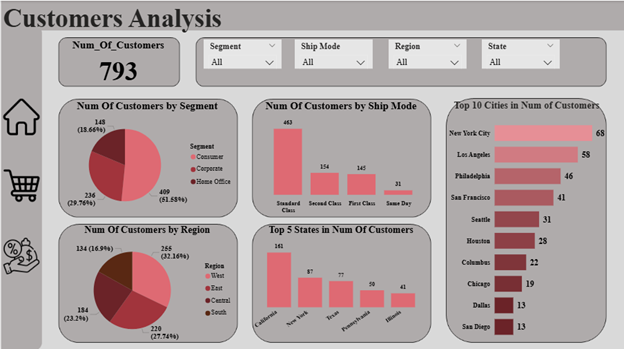

Layout of this report page (visuals, bound fields, positions):
{"tool":"powerbi","page":{"name":"Customers","canvas":[1280,720],"ordinal":1},"visuals":[{"type":"card","title":"Num_Of_Customers","fields":{"Values":["dimCustomers.Num_Of_Customers"]},"box":[116.2,79.4,250.9,99.2],"z":0},{"type":"clusteredColumnChart","title":"Num Of Customers by Ship Mode","fields":{"Category":["dimCustomers.Ship Mode"],"Y":["dimCustomers.Num_Of_Customers"]},"box":[514.5,204.1,368.5,240.9],"z":1000},{"type":"pieChart","title":"Num Of Customers by Segment","fields":{"Y":["dimCustomers.Num_Of_Customers"],"Category":["dimCustomers.Segment"]},"box":[116.2,204.1,369.9,242.4],"z":2000},{"type":"clusteredBarChart","title":"Top 10 Cities in Num of Customers","fields":{"Category":["dimCustomers.City"],"Y":["dimCustomers.Num_Of_Customers"]},"box":[914.2,202.7,331.7,506],"z":3000},{"type":"pieChart","title":"Num Of Customers by Region","fields":{"Category":["dimCustomers.Region"],"Y":["dimCustomers.Num_Of_Customers"]},"box":[116.2,457.8,369.9,250.9],"z":4000},{"type":"clusteredColumnChart","title":"Top 5 States in Num Of Customers","fields":{"Category":["dimCustomers.State"],"Y":["dimCustomers.Num_Of_Customers"]},"box":[514.5,457.8,368.5,240.9],"z":5000},{"type":"textbox","box":[0,0,486.1,79.4],"z":6000},{"type":"image","box":[0,189.9,85,97.8],"z":6001},{"type":"image","box":[0,337.3,85,83.6],"z":6002},{"type":"image","box":[0,469.1,85,109.1],"z":6003},{"type":"slicer","fields":{"Values":["dimCustomers.Segment"]},"box":[416.7,79.4,160.2,59.5],"z":6004},{"type":"slicer","fields":{"Values":["dimCustomers.Region"]},"box":[796.5,79.4,160.2,59.5],"z":6005},{"type":"slicer","fields":{"Values":["dimCustomers.Ship Mode"]},"box":[603.8,79.4,160.2,59.5],"z":6006},{"type":"slicer","fields":{"Values":["dimCustomers.State"]},"box":[987.9,79.4,160.2,59.5],"z":6007}]}

Visuals, with their boxes in screenshot pixels (x1, y1, x2, y2), scaled from the page's 1280x720 canvas onto the 624x349 screenshot:
"Num_Of_Customers" card: [57, 38, 179, 87]
"Num Of Customers by Ship Mode" clusteredColumnChart: [251, 99, 430, 216]
"Num Of Customers by Segment" pieChart: [57, 99, 237, 216]
"Top 10 Cities in Num of Customers" clusteredBarChart: [446, 98, 607, 344]
"Num Of Customers by Region" pieChart: [57, 222, 237, 344]
"Top 5 States in Num Of Customers" clusteredColumnChart: [251, 222, 430, 339]
textbox: [0, 0, 237, 38]
image: [0, 92, 41, 139]
image: [0, 163, 41, 204]
image: [0, 227, 41, 280]
slicer - dimCustomers.Segment: [203, 38, 281, 67]
slicer - dimCustomers.Region: [388, 38, 466, 67]
slicer - dimCustomers.Ship Mode: [294, 38, 372, 67]
slicer - dimCustomers.State: [482, 38, 560, 67]
